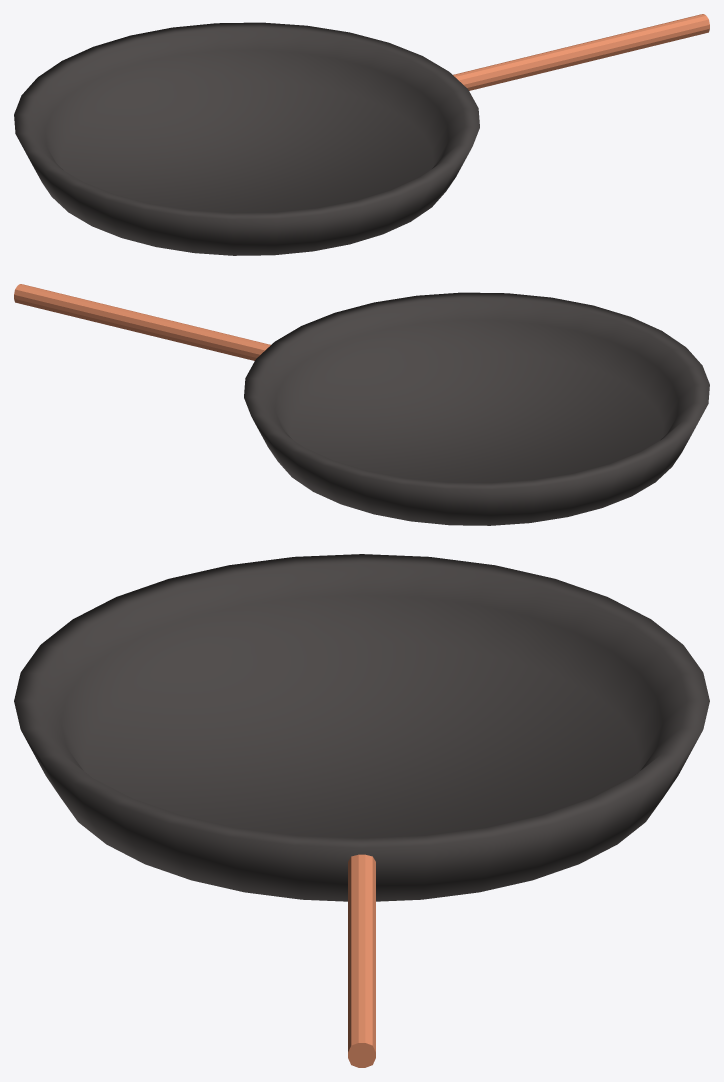
The model's file is Assets.fbx_Pfanne.fbx.
3 views of the same model, one above another, from view 1: azimuth 30°, elevation 25°; view 2: azimuth 150°, elevation 25°; view 3: azimuth 270°, elevation 25° (orthographic). The views are drawn at different scales.
Visible parts, largest first — view 1: Cylinder.023, Cube; view 2: Cylinder.023, Cube; view 3: Cylinder.023, Cube.
Boxes of the visible parts, x1,y1,x2,y2 form: Cylinder.023: [14, 22, 479, 255]; Cube: [453, 14, 709, 90]; Cylinder.023: [244, 292, 709, 525]; Cube: [14, 284, 270, 360]; Cylinder.023: [14, 554, 709, 901]; Cube: [348, 854, 375, 1067].
Bounding box in the file's own units: 52.88 × 3.66 × 32.38.
